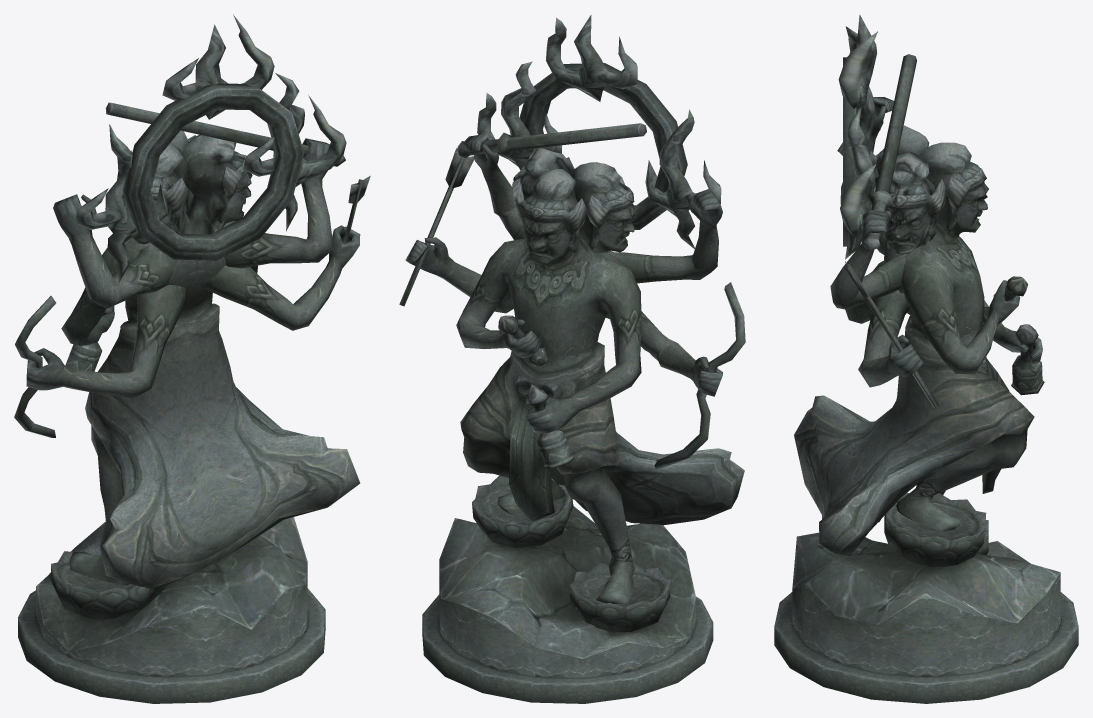
File: diao_su_004.FBX
3 renders of one model, left to right at view 1: azimuth 30°, elevation 25°; view 2: azimuth 150°, elevation 25°; view 3: azimuth 270°, elevation 25°, orthographic. The views are drawn at different scales.
Parts seen in each view (by area): view 1: diao_su_004_a01; view 2: diao_su_004_a01; view 3: diao_su_004_a01.
Boxes of the visible parts, x1,y1,x2,y2 form: diao_su_004_a01: (14,14,370,703); diao_su_004_a01: (399,14,745,703); diao_su_004_a01: (774,14,1078,703).
Bounding box in the file's own units: 602 × 1046 × 458.
1 material, 1 textured.
